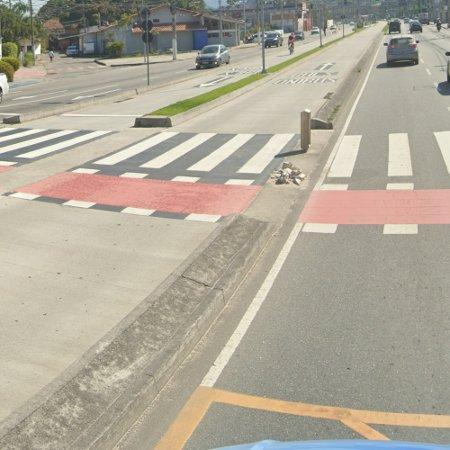crosswalk: (0, 125, 450, 178)
